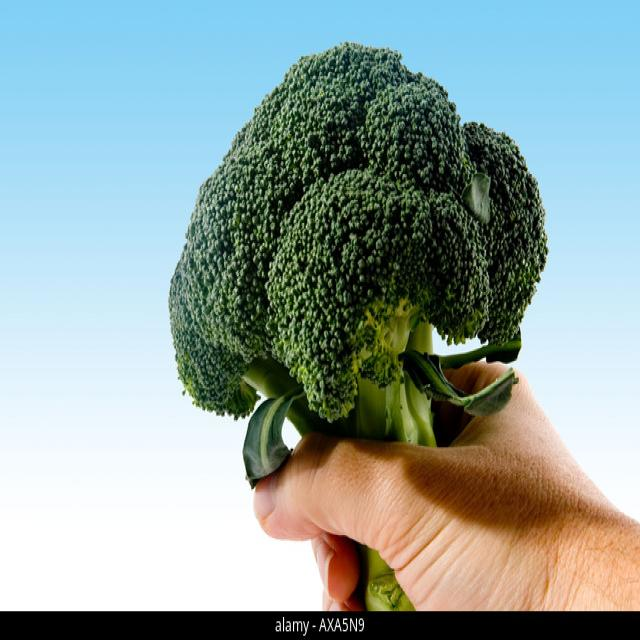broccoli: (168, 38, 548, 437)
